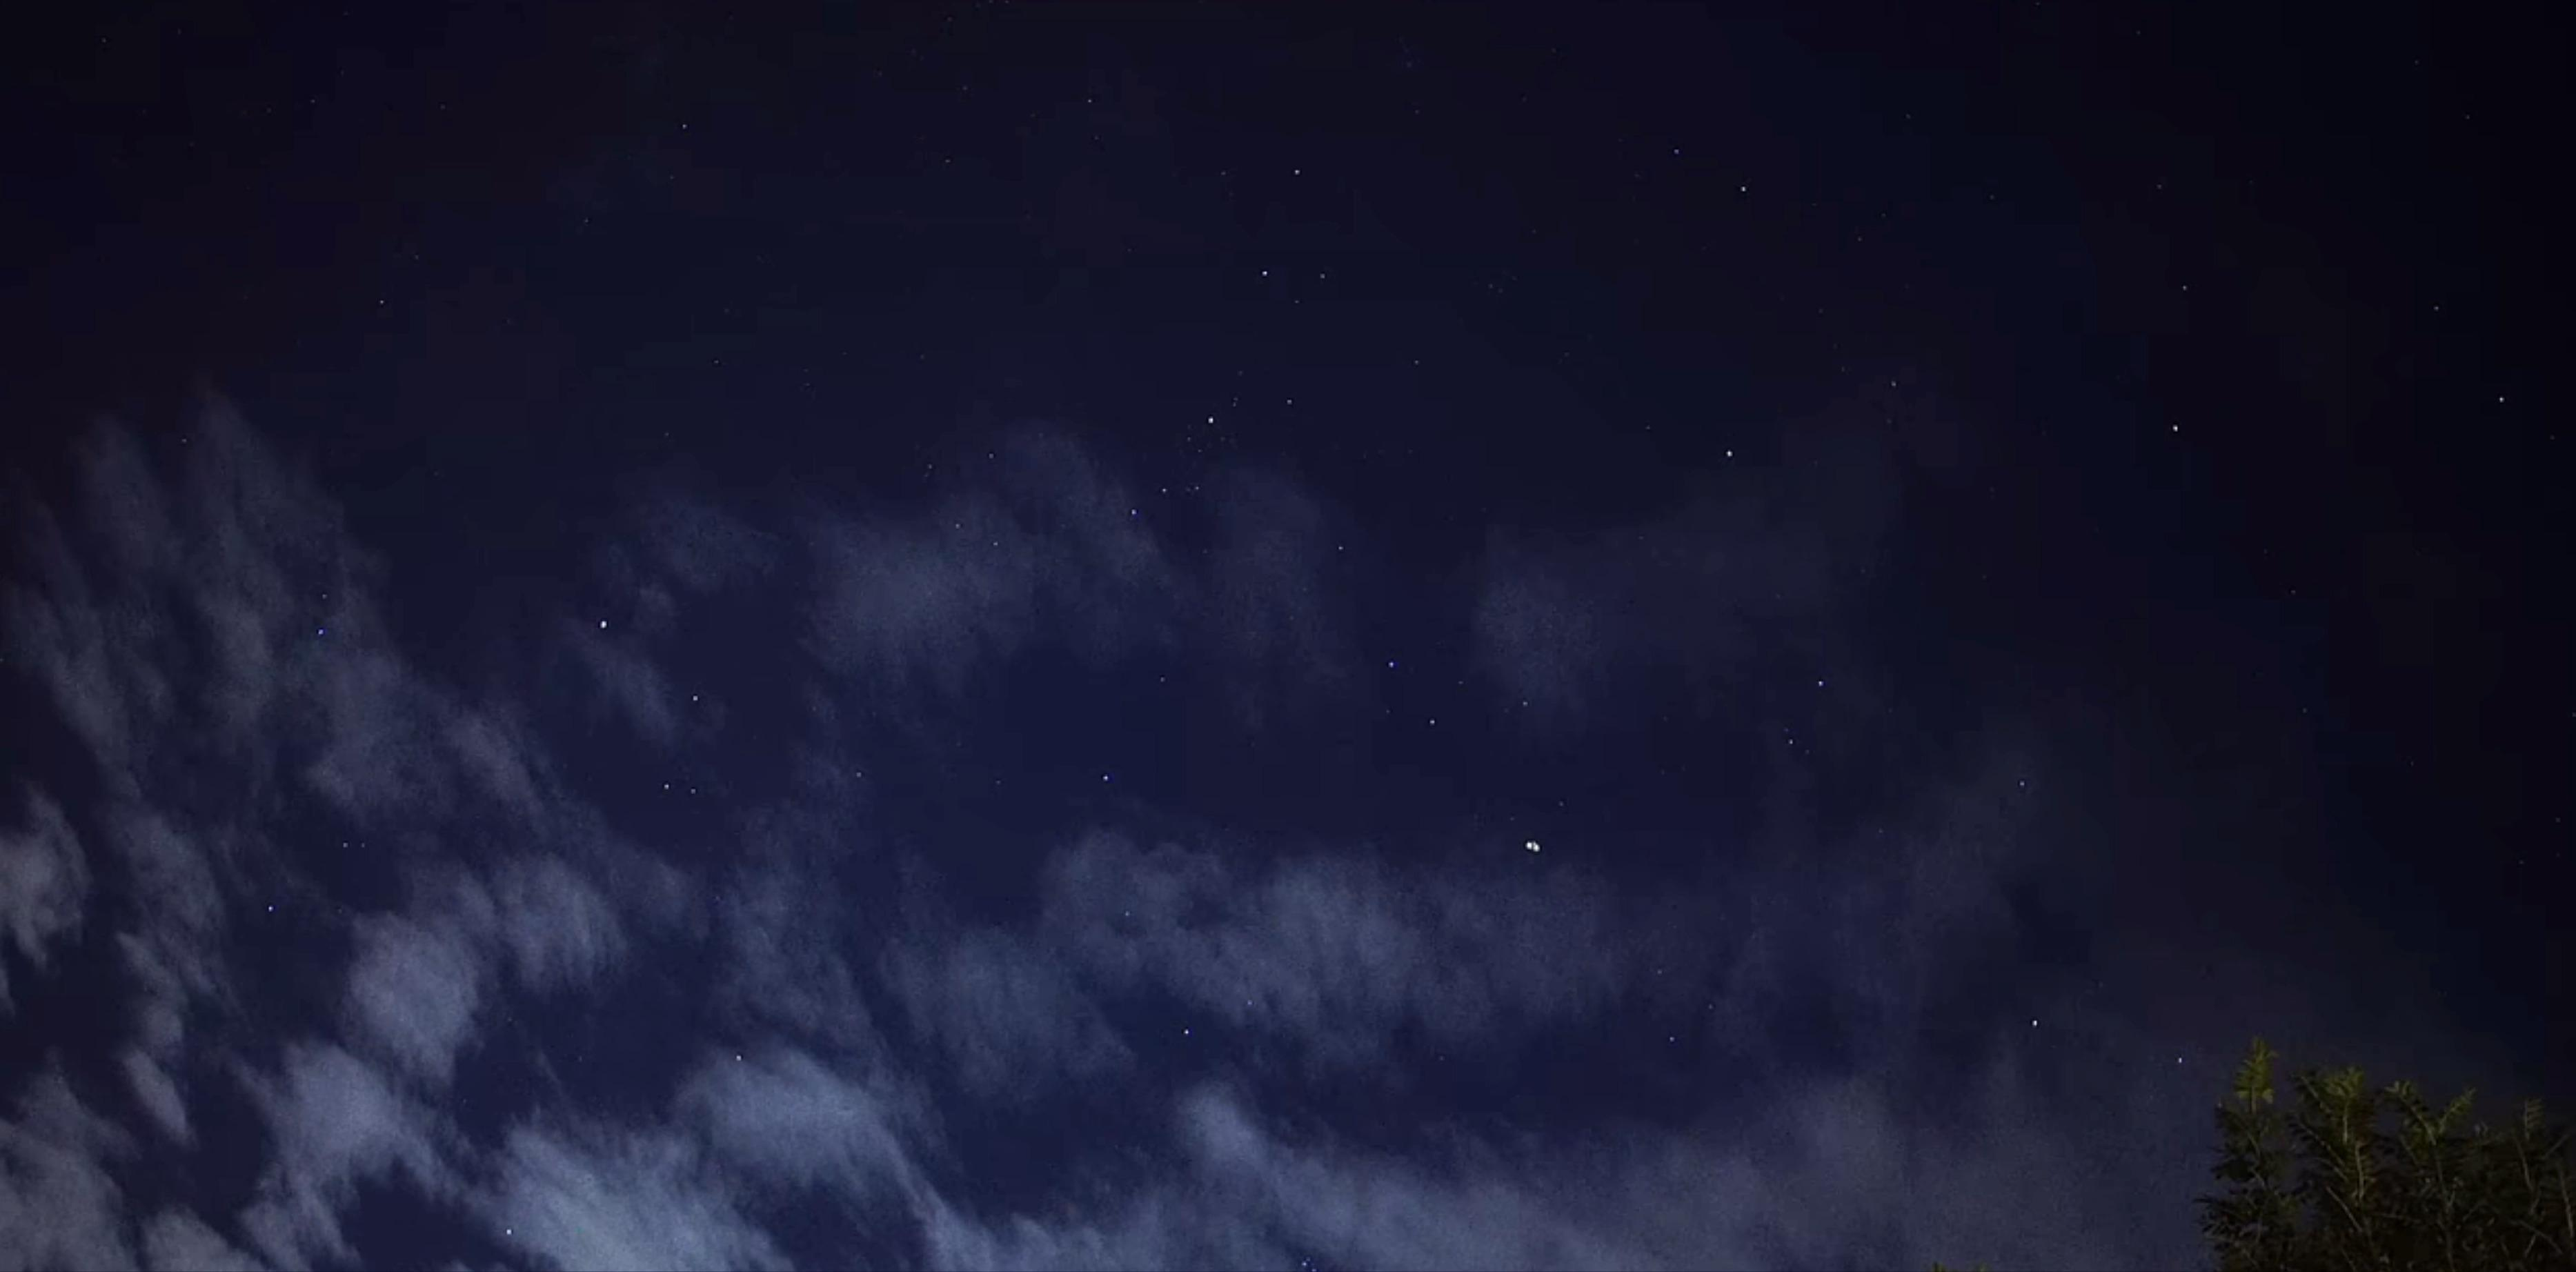Plane: (1505, 823, 1564, 883)
